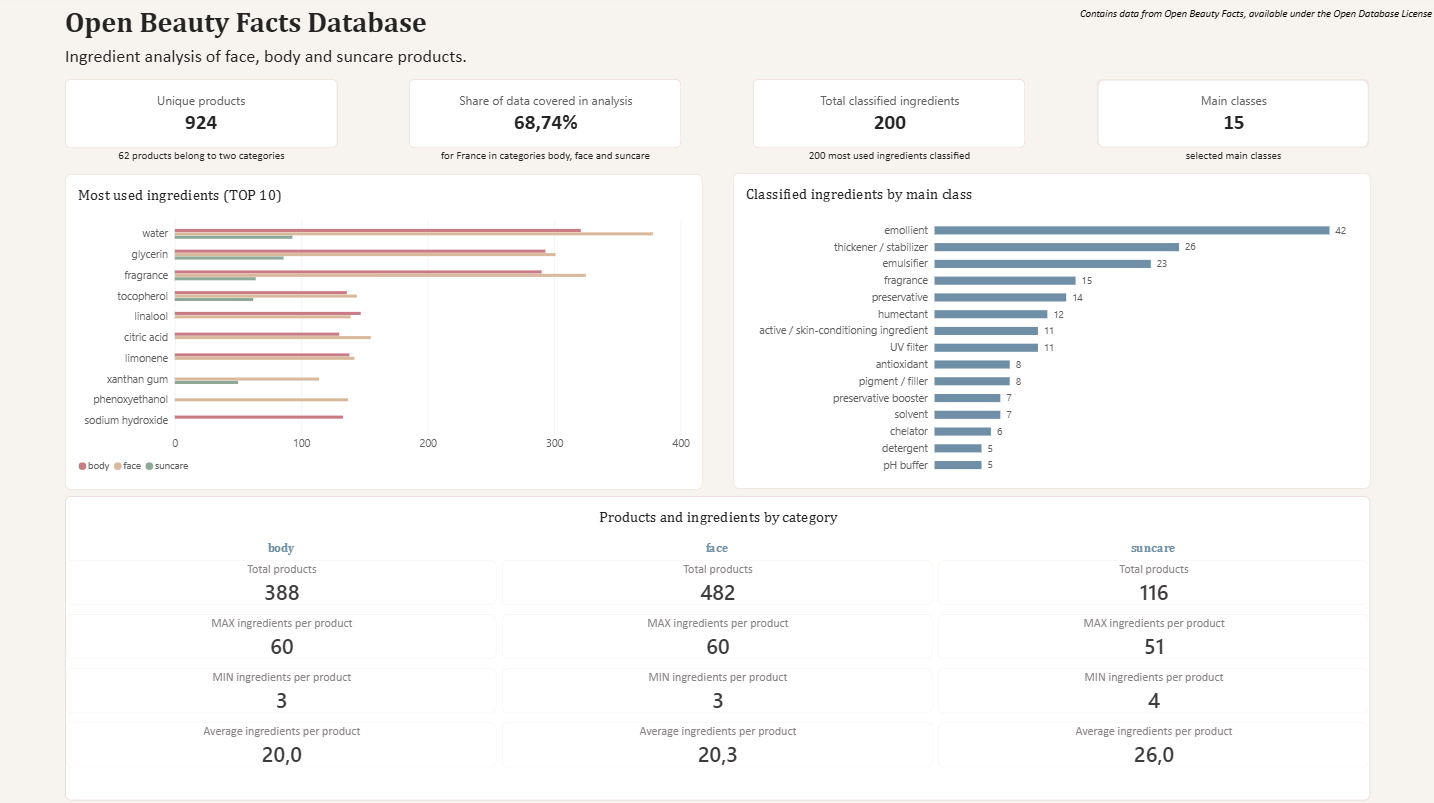

This screenshot's page, from the dashboard's own definition file:
{"tool":"powerbi","page":{"name":"Overview","canvas":[1920,1080],"ordinal":0},"visuals":[{"type":"clusteredBarChart","title":"Most used ingredients (TOP 10)","fields":{"Category":["vw_cat_ranking10.ingredient"],"Series":["dim_category.category"],"Y":["Sum(vw_cat_ranking10.n_products)"]},"box":[93.1,236.8,847.9,420.2],"z":0},{"type":"cardVisual","fields":{"Data":["Sum(vw_class_ingredient_count.n_ingredients)"]},"box":[1008.1,110.6,362.8,92],"z":1000},{"type":"barChart","title":"Classified ingredients by main class","fields":{"Category":["vw_avg_class.main_class"],"Y":["Sum(vw_avg_class.n_ingredients)"]},"box":[981.1,236.1,847.9,420.2],"z":2000},{"type":"cardVisual","title":"Products and ingredients by category","fields":{"Data":["Sum(vw_avg_category.n_products)","Max(vw_avg_category.max_n)","Min(vw_avg_category.min_n)","Sum(vw_avg_category.avg_n_ingredients)","Sum(vw_avg_category.avg_n_ingredients)"],"Rows":["vw_avg_category.category"]},"box":[93.1,665.3,1736.1,405.5],"z":3000},{"type":"cardVisual","fields":{"Data":["products.Unique products"]},"box":[93.1,110.6,362.8,92],"z":4000},{"type":"cardVisual","fields":{"Data":["dim_class.classes count"]},"box":[1466.1,110.6,362.8,92],"z":5000},{"type":"cardVisual","fields":{"Data":["product_ingredients.pct_classified"]},"box":[551.1,110.6,362.8,92],"z":6000},{"type":"textbox","box":[93.1,65.4,573.2,38.7],"z":7000},{"type":"textbox","box":[93.1,12.9,503.1,52.5],"z":8000},{"type":"textbox","box":[93.1,202.7,363.1,33.2],"z":9000},{"type":"textbox","box":[551.1,202.7,363.1,33.2],"z":10000},{"type":"textbox","box":[1008.1,202.7,363.1,33.2],"z":11000},{"type":"textbox","box":[100,100,300,300],"z":12000},{"type":"textbox","box":[1466.1,202.7,363.1,24.9],"z":13000},{"type":"textbox","box":[1442.9,12.9,477.1,38.6],"z":14000}]}

Visuals, with their boxes in screenshot pixels (x1, y1, x2, y2), scaled from the page's 1920x1080 canvas onto the 1434x803 screenshot:
"Most used ingredients (TOP 10)" clusteredBarChart: (70,176,703,488)
cardVisual - Sum(vw_class_ingredient_count.n_ingredients): (753,82,1024,151)
"Classified ingredients by main class" barChart: (733,176,1366,488)
"Products and ingredients by category" cardVisual: (70,495,1366,796)
cardVisual - products.Unique products: (70,82,341,151)
cardVisual - dim_class.classes count: (1095,82,1366,151)
cardVisual - product_ingredients.pct_classified: (412,82,683,151)
textbox: (70,49,498,77)
textbox: (70,10,445,49)
textbox: (70,151,341,175)
textbox: (412,151,683,175)
textbox: (753,151,1024,175)
textbox: (75,74,299,297)
textbox: (1095,151,1366,169)
textbox: (1078,10,1433,38)
